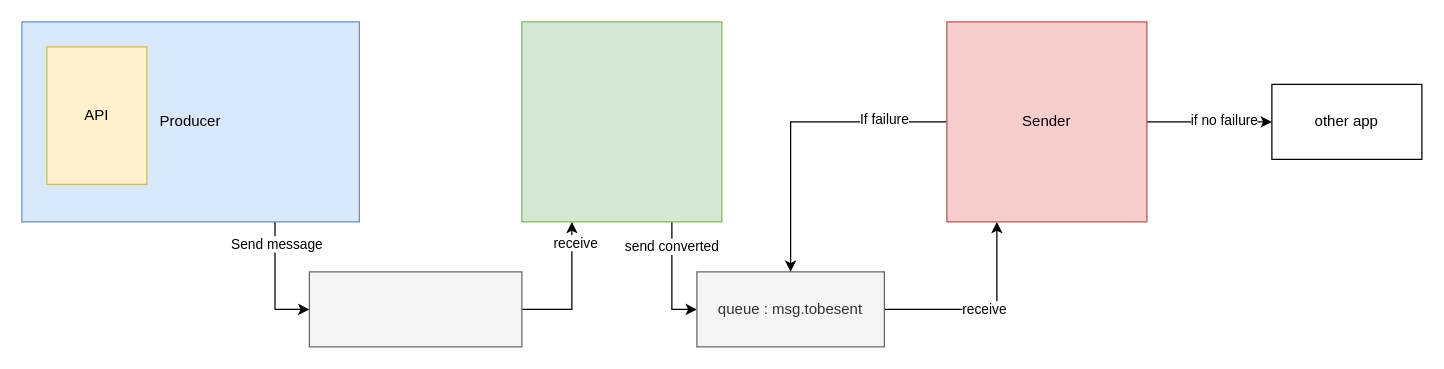
Some shapes in this 1444 by 369 pixel diagram are drawn without their labels. The box of each missing label's shape, as (x1, y1, x2, y2) in pixels:
converter: (521, 21, 722, 222)
queue : msg.tobeconverted: (308, 271, 522, 347)
